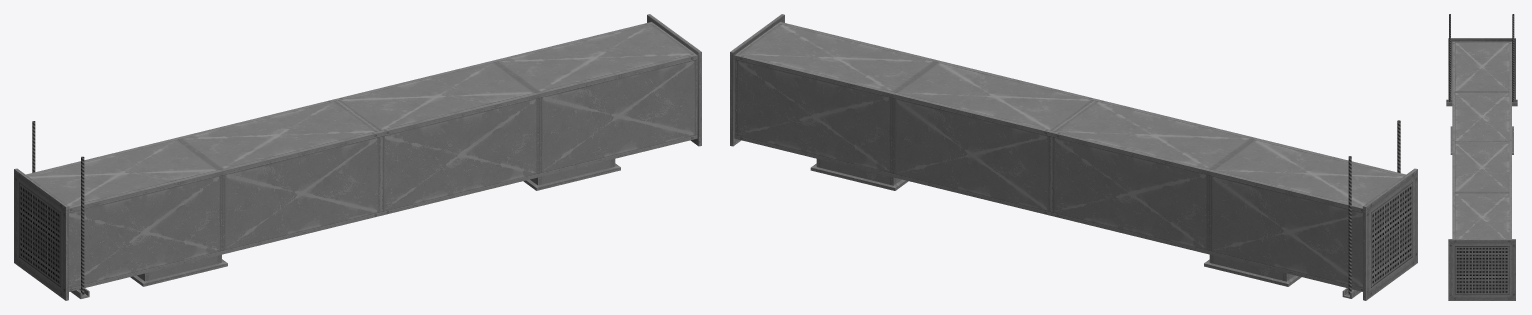
Rendered from HH_Ventilation_4m_03.fbx.
3 renders of one model, left to right at view 1: azimuth 30°, elevation 25°; view 2: azimuth 150°, elevation 25°; view 3: azimuth 270°, elevation 25°, orthographic. The views are drawn at different scales.
Visible parts, largest first — view 1: HH_Ventilation_4m_03_LOD0; view 2: HH_Ventilation_4m_03_LOD0; view 3: HH_Ventilation_4m_03_LOD0.
Part boxes in pixels (x1,y1,x2,y2): HH_Ventilation_4m_03_LOD0: (14, 14, 701, 300); HH_Ventilation_4m_03_LOD0: (730, 14, 1417, 300); HH_Ventilation_4m_03_LOD0: (1446, 14, 1517, 300).
Size of what is drawn, in the model's own units: 400 by 87.07 by 59.65.
